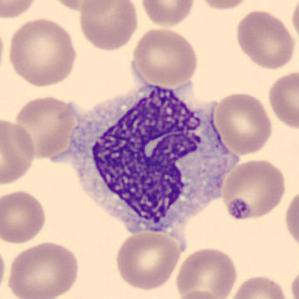Monocyte: (56, 76, 241, 242)
Platelets: (226, 197, 251, 221)
RBC: (5, 16, 79, 89), (3, 239, 81, 299), (10, 93, 79, 160), (219, 157, 287, 222), (113, 229, 182, 291), (130, 26, 200, 87), (210, 90, 274, 156), (232, 7, 296, 71), (173, 245, 240, 298), (78, 0, 140, 52), (0, 115, 38, 187), (0, 188, 48, 245), (266, 68, 298, 131), (226, 272, 292, 299), (138, 0, 197, 28), (45, 0, 118, 15), (283, 185, 299, 253), (0, 0, 42, 21), (194, 0, 255, 12), (172, 288, 228, 299), (289, 0, 299, 45), (0, 18, 6, 84), (288, 264, 299, 299)
